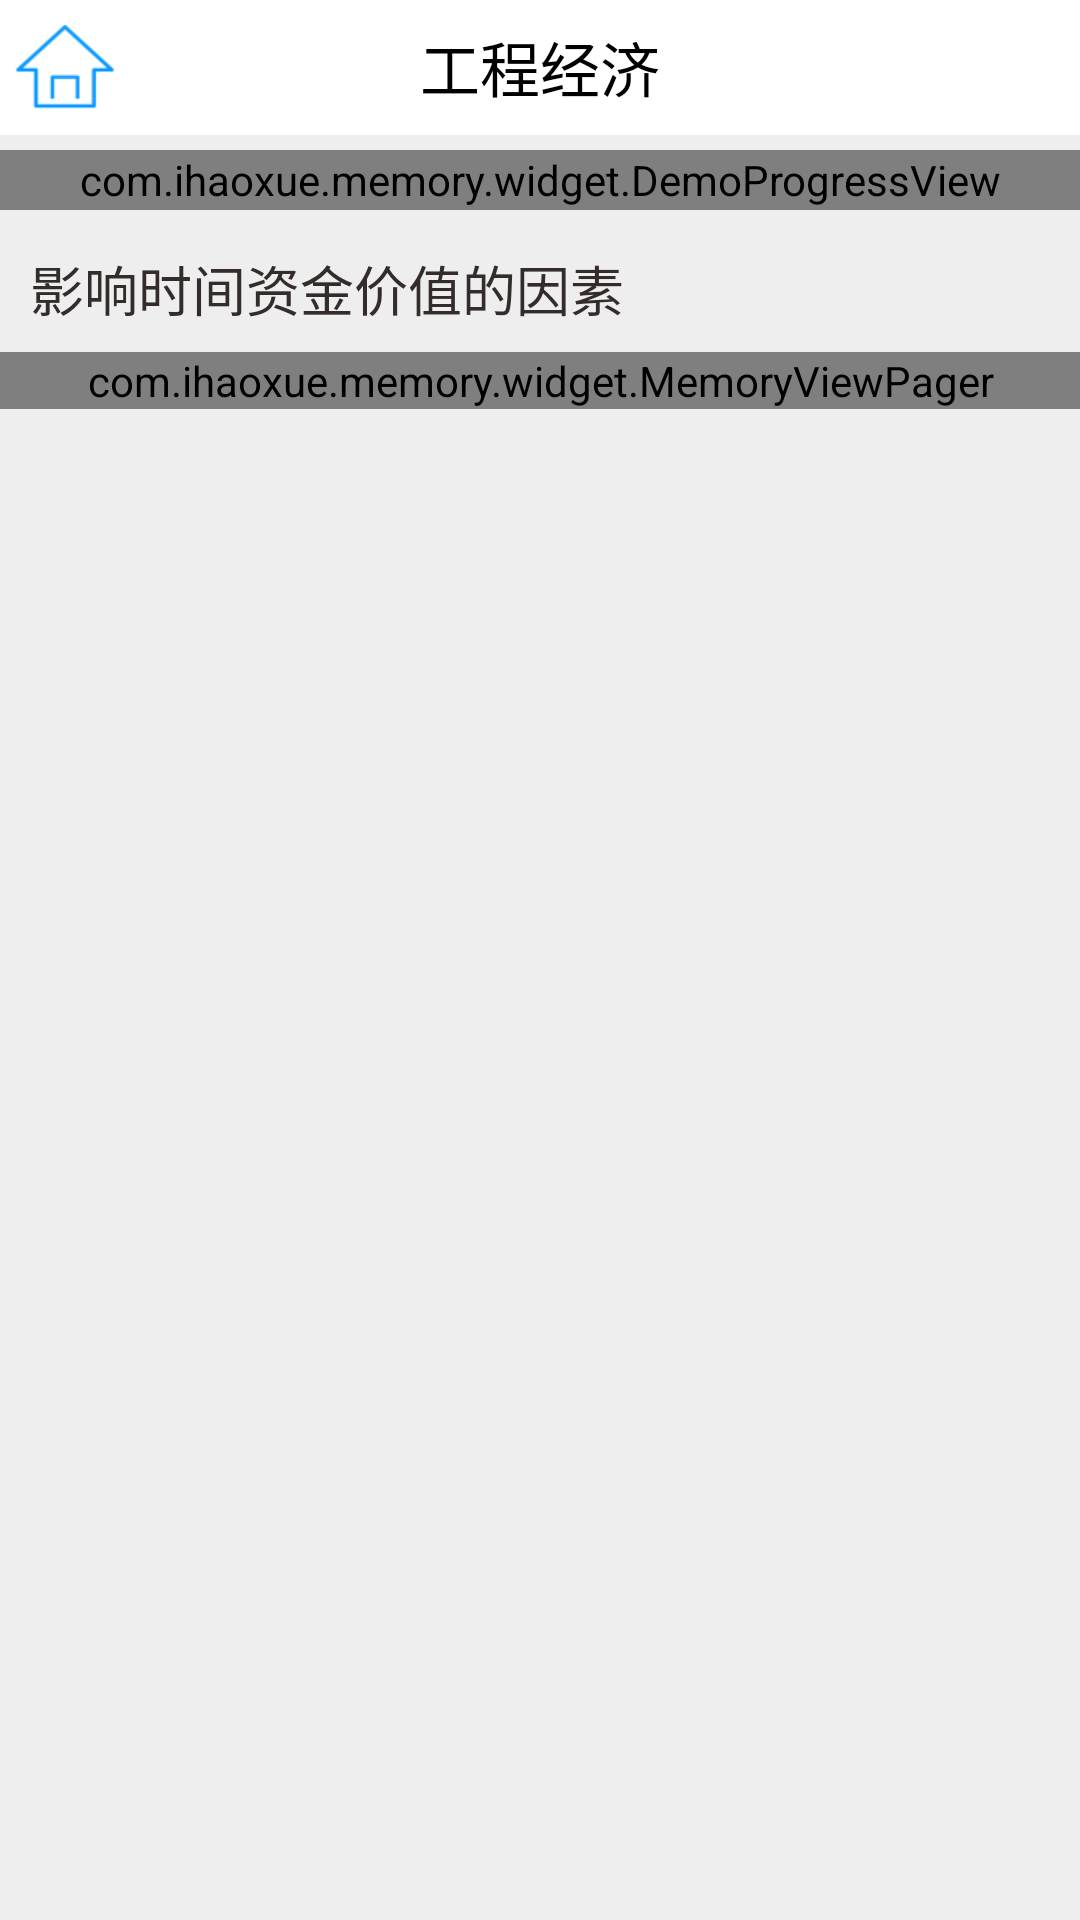

Icons on this 1080w x 1920h Android screen, each with the point to tap as (x=x, y=y):
memory home ioc: (x=65, y=67)
